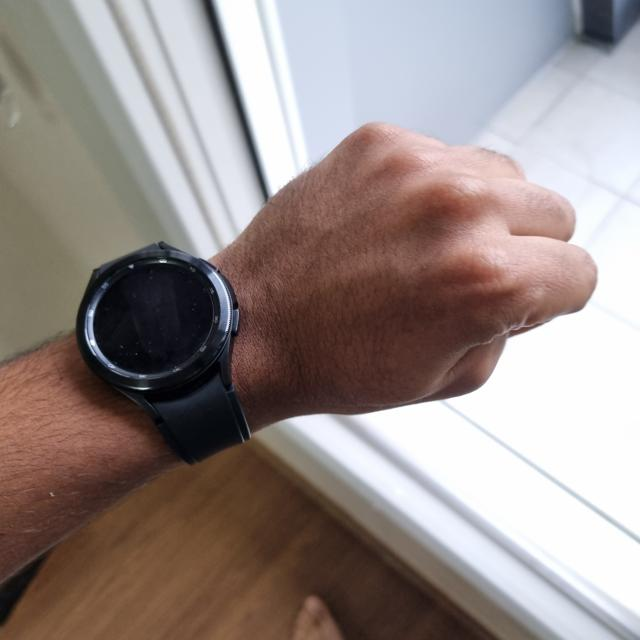Rock: (226, 127, 593, 415)
